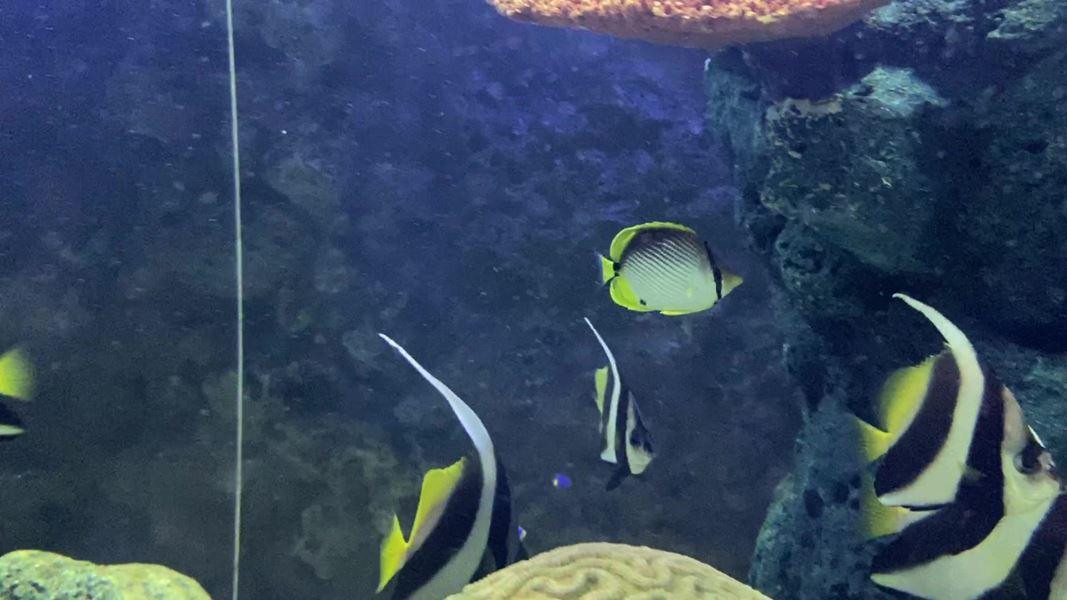Black-backed butterflyfish: (583, 213, 754, 325)
